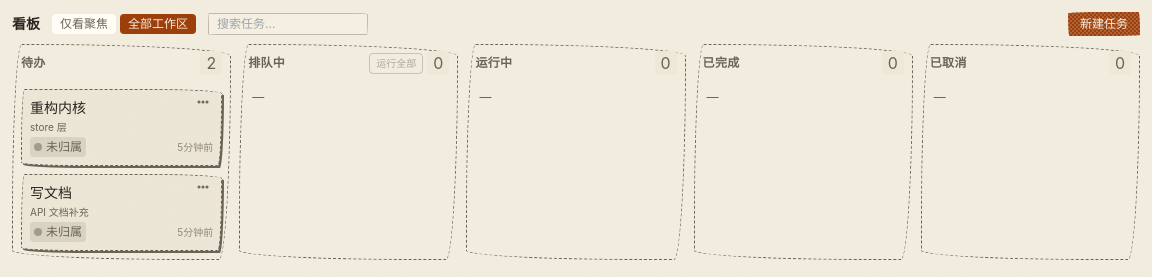
BoardView — card density and search (board polish) › filters cards by title and description, clearing restores all
Check: the button "重构内核" is shown, box 30,98 -> 213,118
Check: the button "写文档" is shown, box 30,183 -> 213,203
Type "重构" into the search field labelled "搜索任务...". click: (288, 24)
box: 208,13 -> 368,35
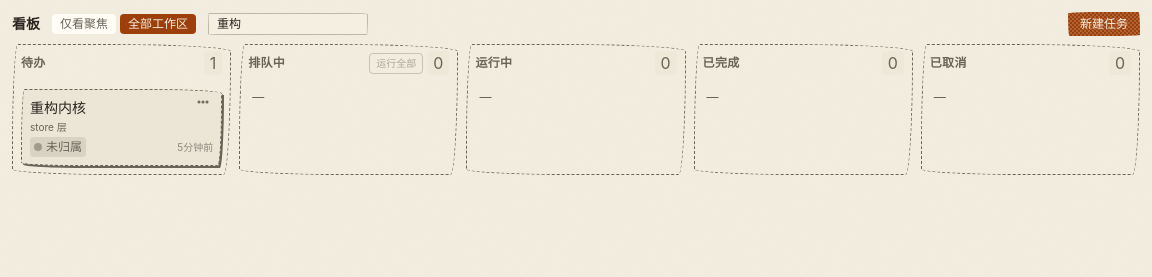
Check: the button "重构内核" is shown, box 30,98 -> 213,118
Check: the button "写文档" is gone
Description matches too.
Replace the text in the search field named "搜索任务..." with "API 文档". click: (288, 24)
box: 208,13 -> 368,35
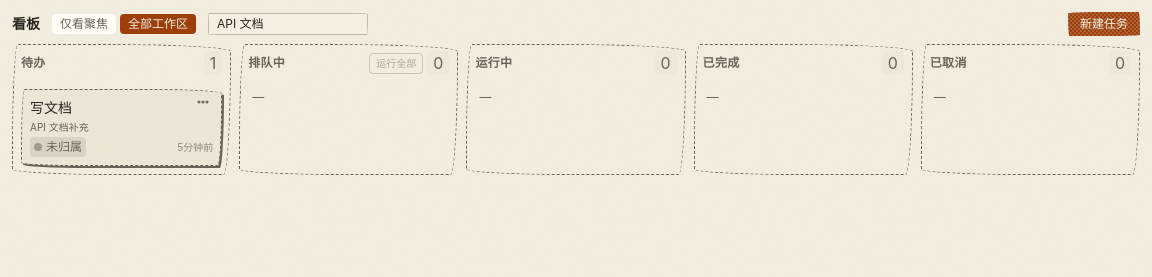
Check: the button "重构内核" is gone
Check: the button "写文档" is shown, box 30,98 -> 213,118
Clear the search field named "搜索任务...". click: (288, 24)
box: 208,13 -> 368,35
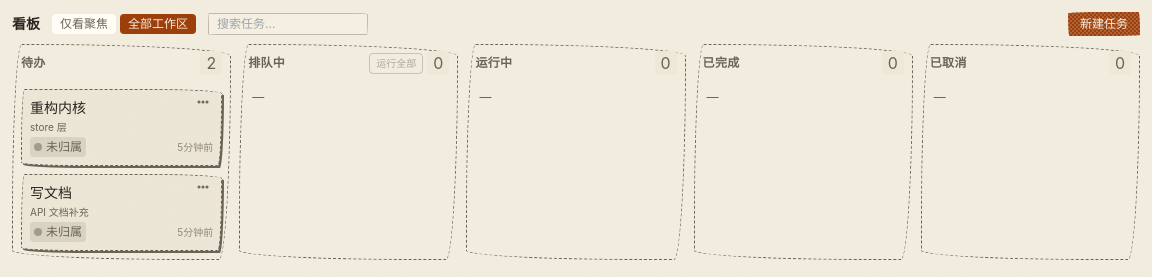
Check: the button "写文档" is shown, box 30,183 -> 213,203
Check: the button "重构内核" is shown, box 30,98 -> 213,118
